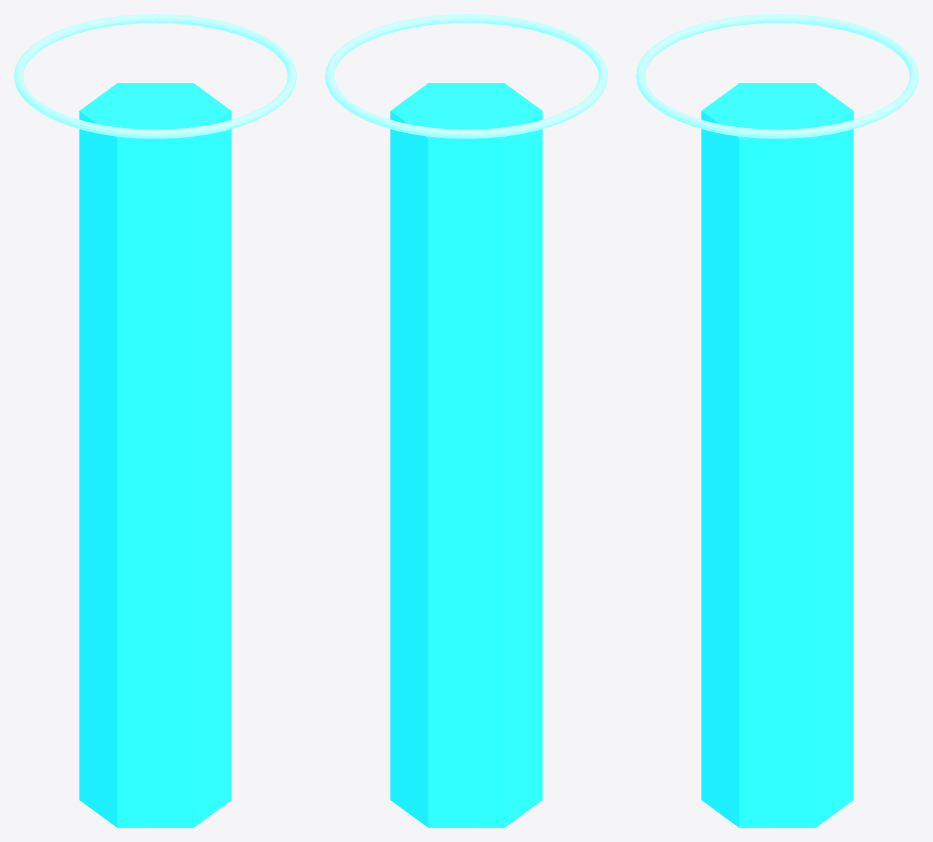
The model's file is monolith_spire.glb.
3 views of the same model, side by side, from view 1: azimuth 30°, elevation 25°; view 2: azimuth 150°, elevation 25°; view 3: azimuth 270°, elevation 25° (orthographic).
Visible parts, largest first — view 1: MonolithSpire, EnergyCrown; view 2: MonolithSpire, EnergyCrown; view 3: MonolithSpire, EnergyCrown.
Boxes of the visible parts, x1,y1,x2,y2 form: MonolithSpire: [79, 83, 231, 827]; EnergyCrown: [14, 14, 296, 138]; MonolithSpire: [390, 83, 542, 827]; EnergyCrown: [325, 14, 607, 138]; MonolithSpire: [701, 83, 853, 827]; EnergyCrown: [636, 14, 918, 138].
Bounding box in the file's own units: 3.72 × 10.56 × 3.72.
